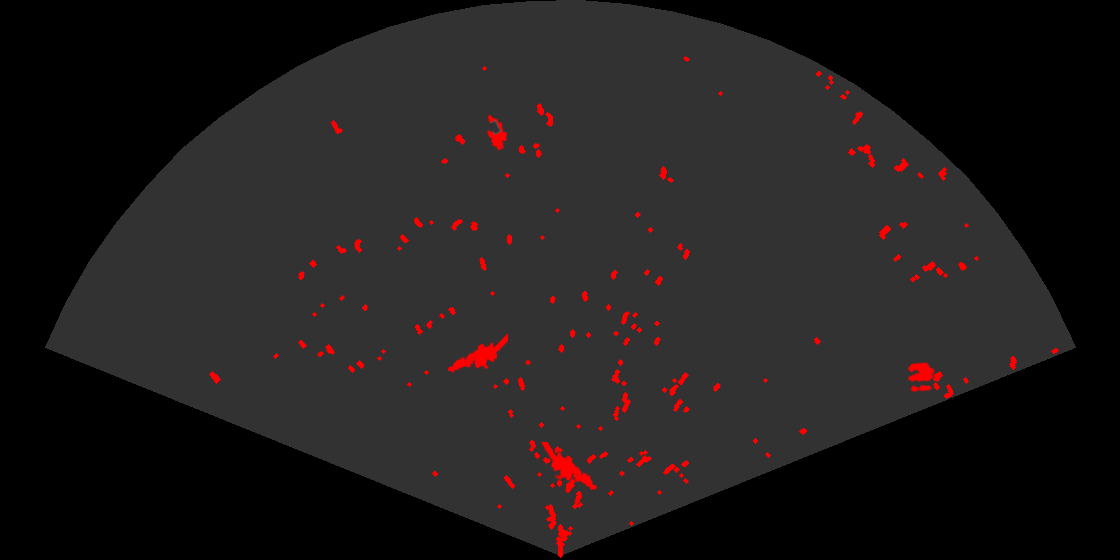AUV: (485, 113, 509, 152)
ball: (906, 361, 936, 393)
frogman: (541, 442, 599, 492), (446, 332, 508, 374)
